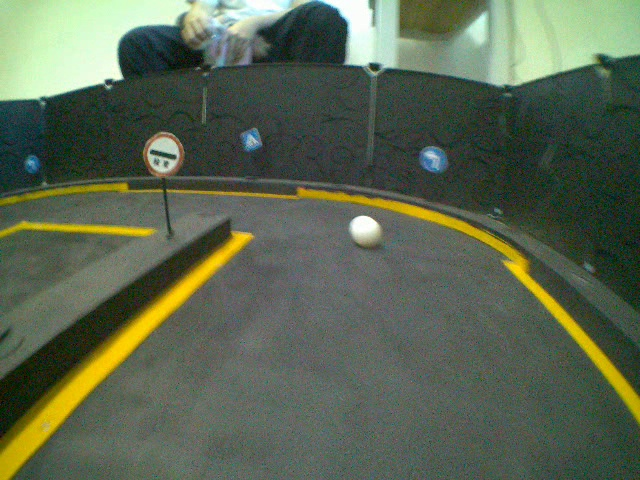ball: (347, 216, 383, 249)
